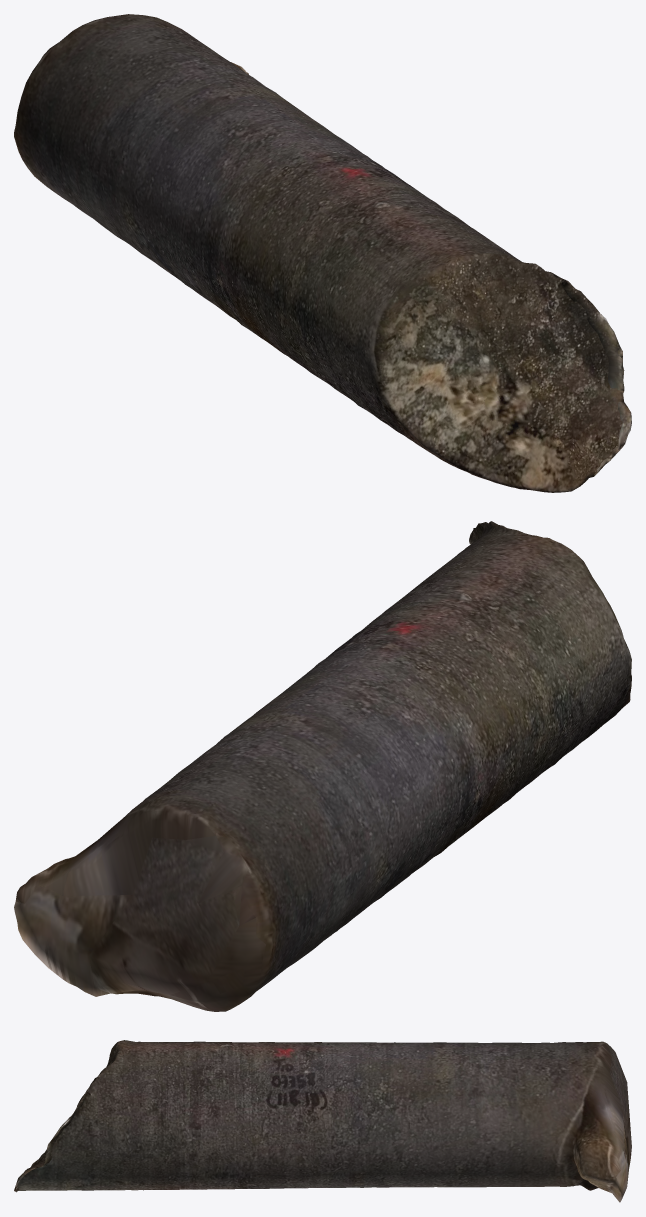
File: PECLD07758 T10.glb
The picture shows the model from 3 angles, top to bottom: view 1: azimuth 30°, elevation 25°; view 2: azimuth 150°, elevation 25°; view 3: azimuth 270°, elevation 25°; orthographic projection. The views are drawn at different scales.
Visible parts, largest first — view 1: baked_mesh; view 2: baked_mesh; view 3: baked_mesh.
Boxes of the visible parts, x1,y1,x2,y2 form: baked_mesh: [14, 14, 631, 492]; baked_mesh: [14, 521, 631, 1011]; baked_mesh: [14, 1040, 631, 1202].
Size of the model in its own units: 0.1804 by 0.14 by 0.5782.
1 material, 1 textured.
